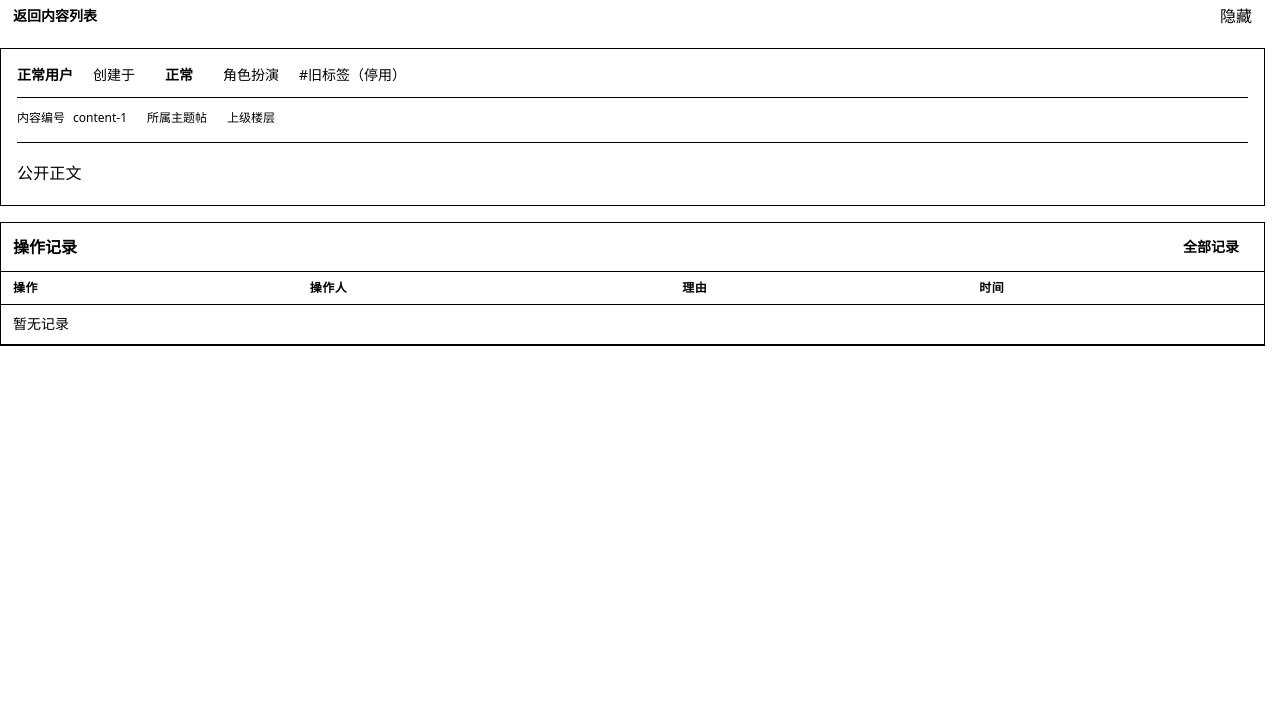
Test: 独立管理详情 › 隐藏失败保留理由，再次成功关闭表单
Click the button "隐藏".
click(1236, 16)  # box [1207, 0, 1265, 32]
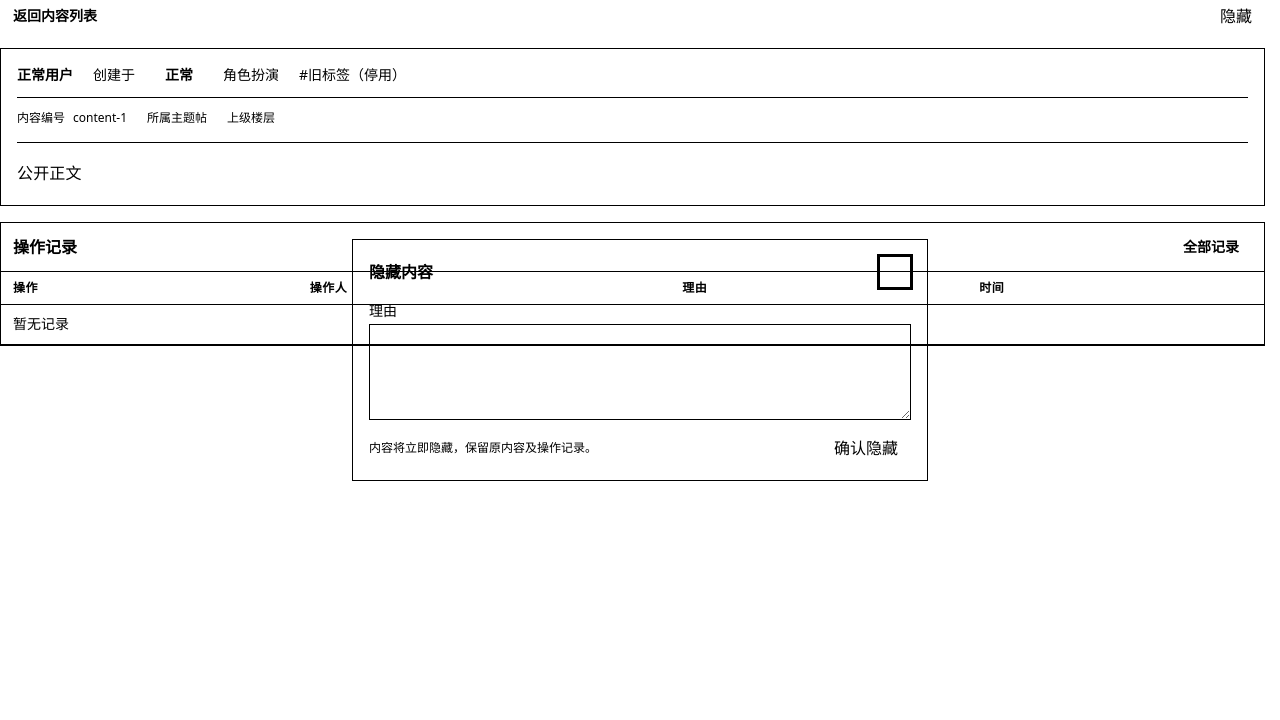
Type "复核后隐藏" into the text box labelled "理由".
click(640, 372); type("复核后隐藏")  # box [369, 324, 911, 420]
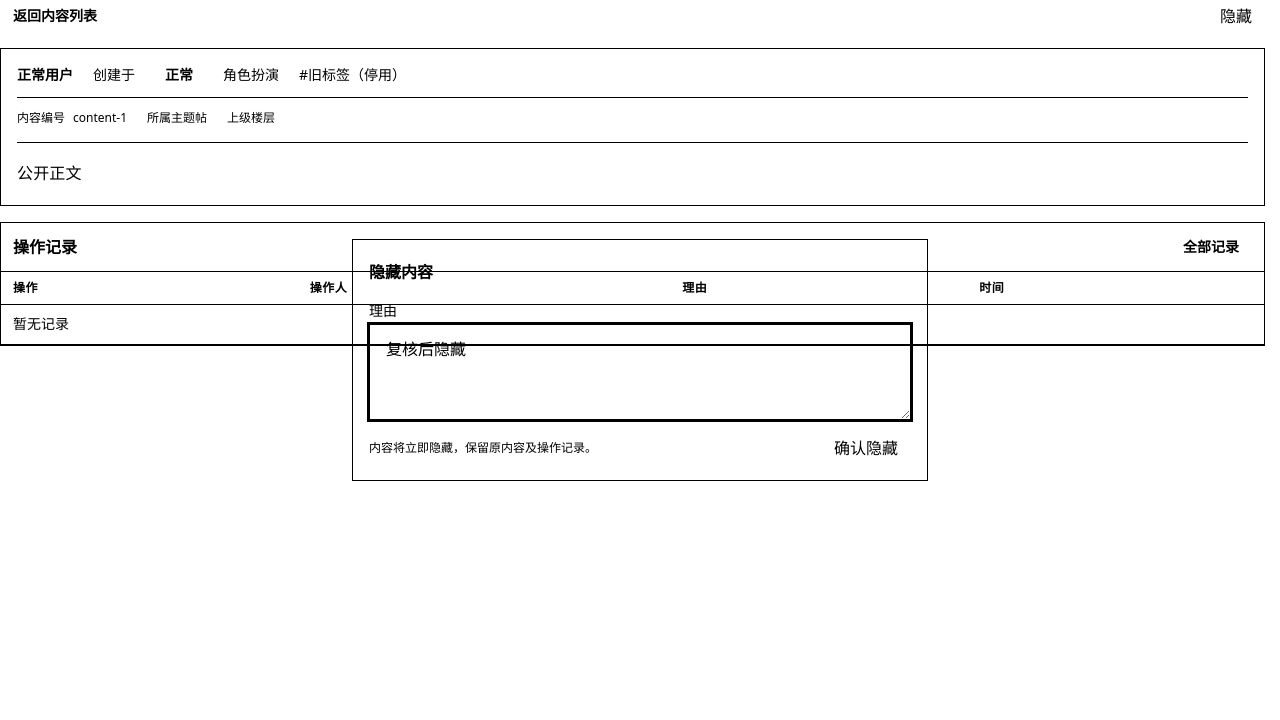
Click the button "确认隐藏".
click(866, 448)  # box [821, 432, 911, 464]
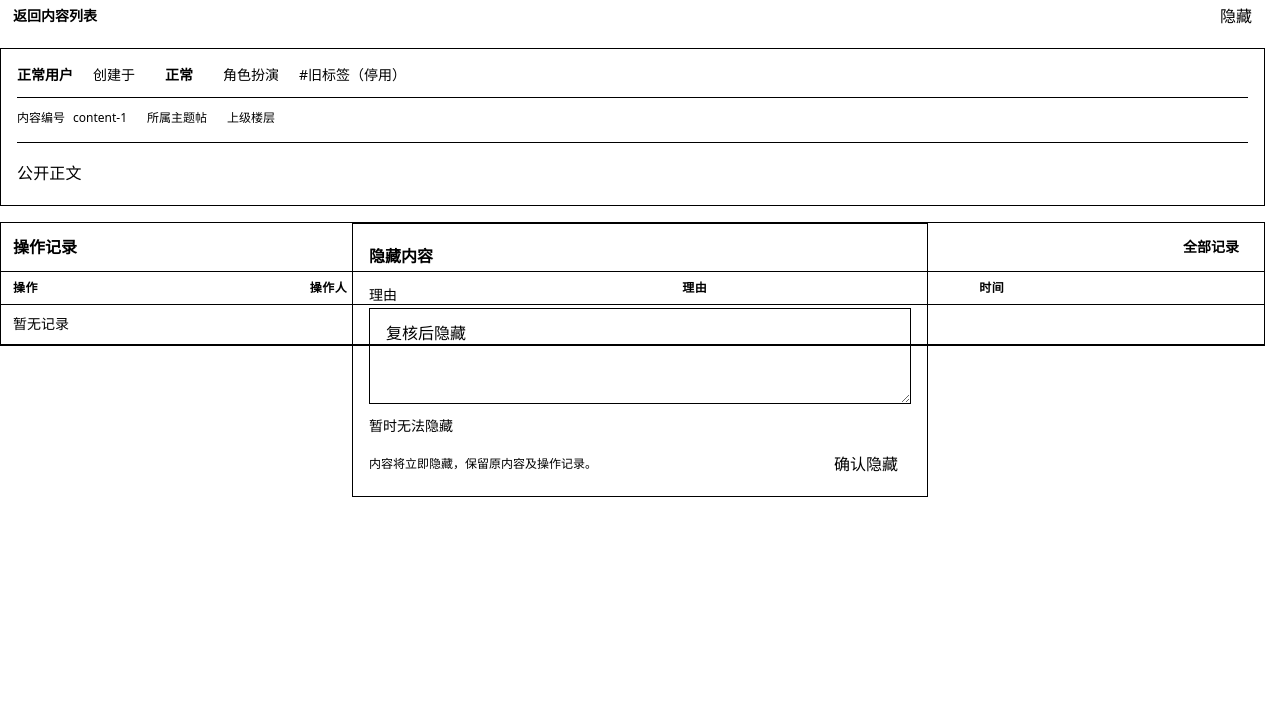
Check: the message reads "暂时无法隐藏", box [369, 416, 453, 435]
Click the button "确认隐藏".
click(866, 464)  # box [821, 448, 911, 480]
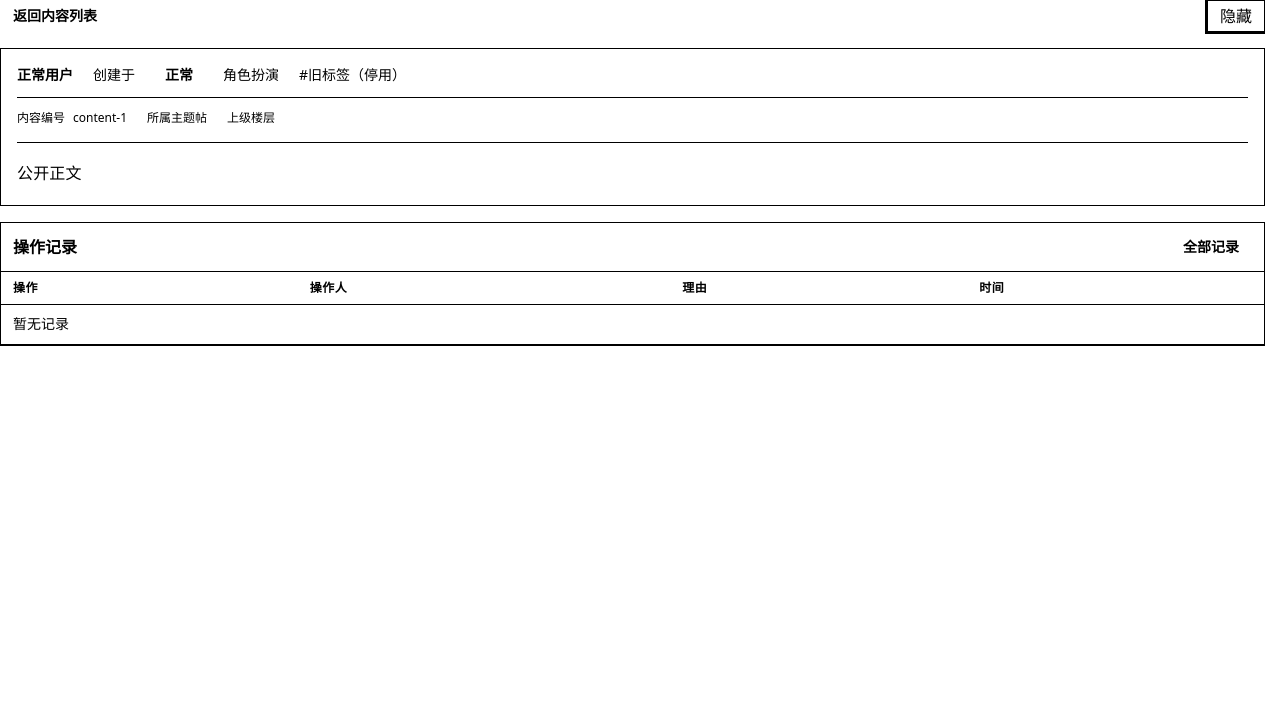
Check: the dialog is gone
